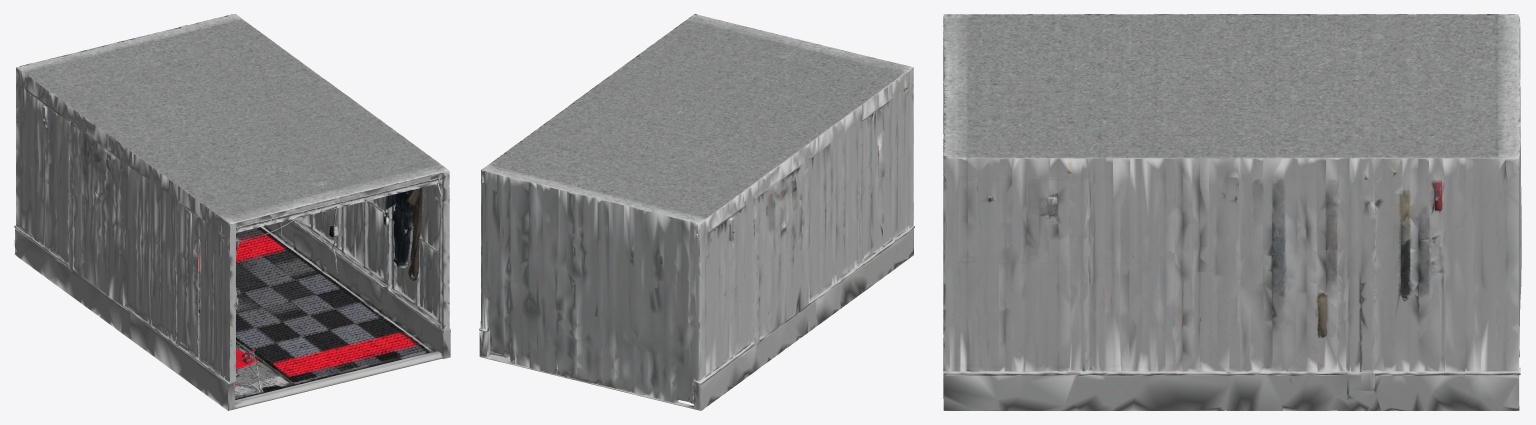
File: garage.glb
The picture shows the model from 3 angles, left to right: view 1: azimuth 30°, elevation 25°; view 2: azimuth 150°, elevation 25°; view 3: azimuth 270°, elevation 25°; orthographic projection. The views are drawn at different scales.
Size of the model in its own units: 1.16 by 0.9219 by 1.9.
Materials: 1 (1 with a texture image).
